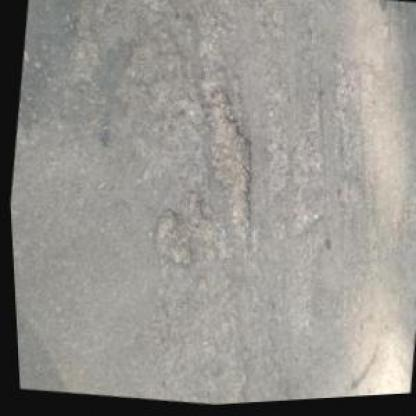pothole: (186, 86, 268, 243), (146, 206, 197, 272)
